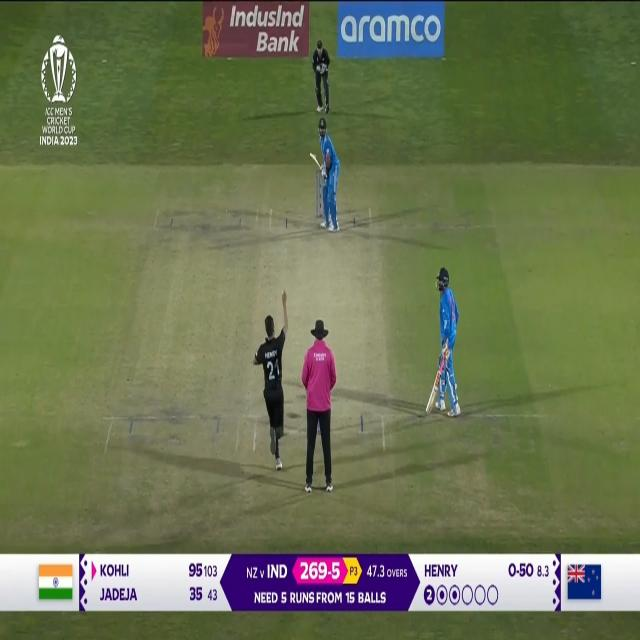ball: (278, 287, 290, 303)
